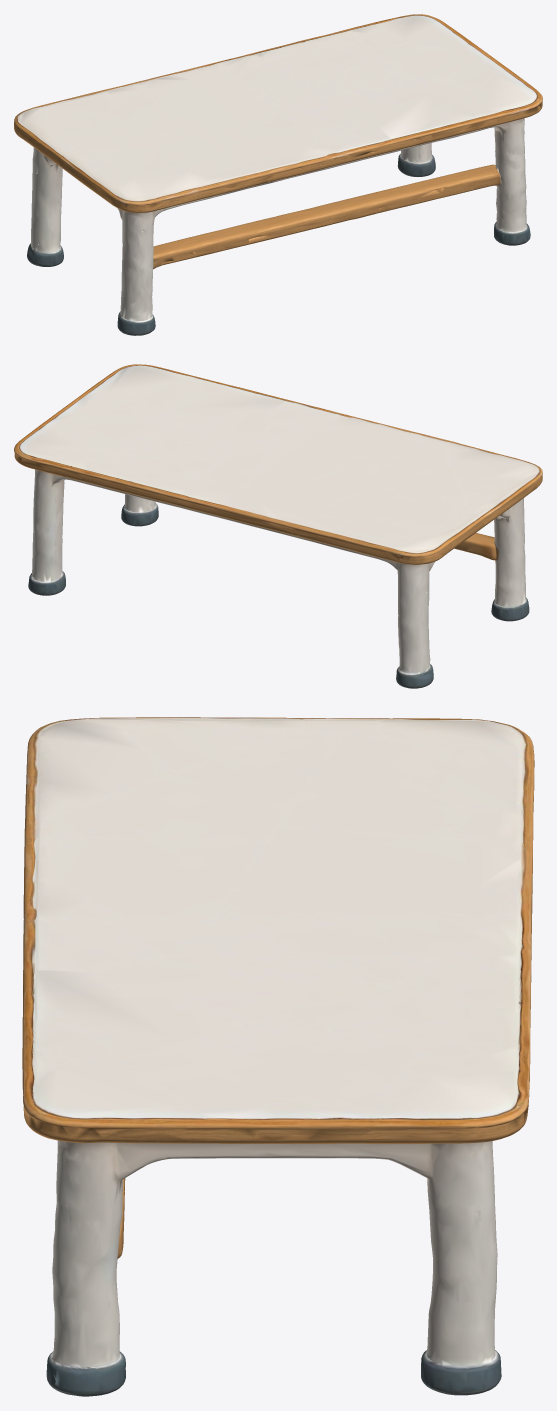
The model's file is craft-table.high.glb.
3 views of the same model, one above another, from view 1: azimuth 30°, elevation 25°; view 2: azimuth 150°, elevation 25°; view 3: azimuth 270°, elevation 25° (orthographic). The views are drawn at different scales.
Parts seen in each view (by area): view 1: tripo_node_040dea08-ea7b-47ad-a03e-5abffffe8451; view 2: tripo_node_040dea08-ea7b-47ad-a03e-5abffffe8451; view 3: tripo_node_040dea08-ea7b-47ad-a03e-5abffffe8451.
Part boxes in pixels (x1,y1,x2,y2): tripo_node_040dea08-ea7b-47ad-a03e-5abffffe8451: (14, 14, 542, 335); tripo_node_040dea08-ea7b-47ad-a03e-5abffffe8451: (14, 364, 542, 688); tripo_node_040dea08-ea7b-47ad-a03e-5abffffe8451: (22, 717, 534, 1396).
Size of the model in its own units: 2.3 by 0.7494 by 1.2.
1 material, 1 textured.
